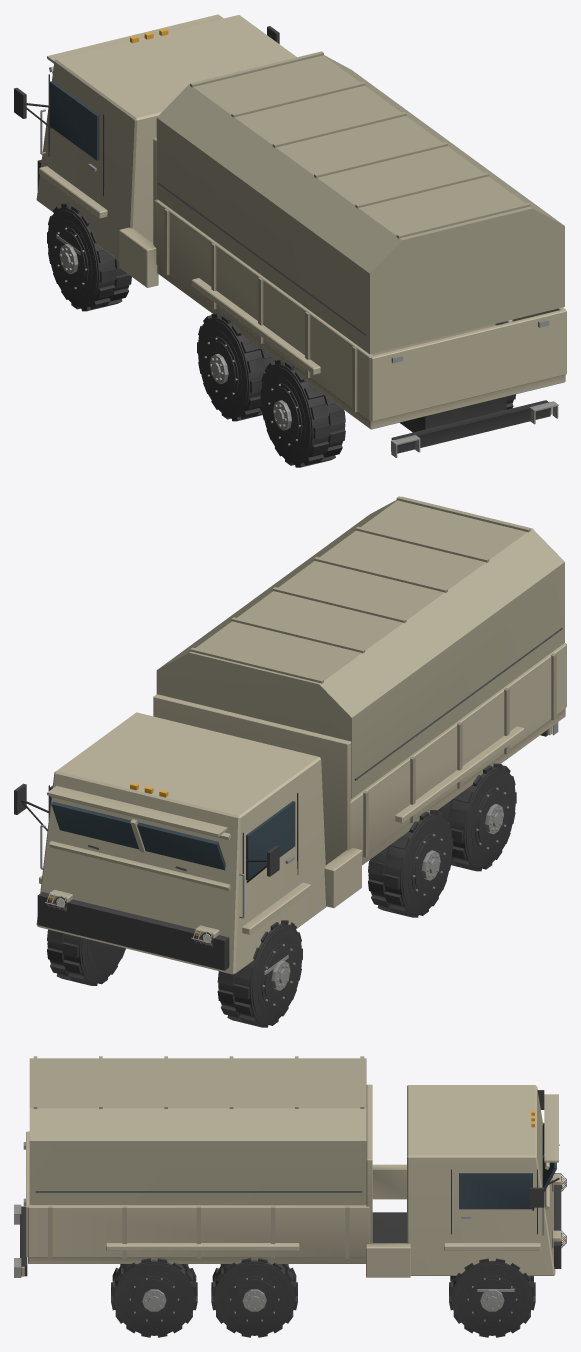
File: truck_usa.glb
The picture shows the model from 3 angles, top to bottom: view 1: azimuth 30°, elevation 25°; view 2: azimuth 150°, elevation 25°; view 3: azimuth 270°, elevation 25°; orthographic projection. The views are drawn at different scales.
Visible parts, largest first — view 1: body, door, wheel_4, wheel_0, wheel_2; view 2: body, wheel_2, wheel_0, wheel_4, wheel_1; view 3: body, wheel_5, wheel_3, wheel_1, door.
Boxes of the visible parts, x1=… form: body: x1=14, y1=14, x2=565, y2=457; door: x1=370, y1=309, x2=566, y2=421; wheel_4: x1=260, y1=359, x2=345, y2=467; wheel_0: x1=47, y1=203, x2=131, y2=311; wheel_2: x1=197, y1=313, x2=275, y2=421; body: x1=14, y1=496, x2=566, y2=974; wheel_2: x1=368, y1=810, x2=453, y2=917; wheel_0: x1=217, y1=920, x2=302, y2=1027; wheel_4: x1=438, y1=763, x2=516, y2=871; wheel_1: x1=47, y1=929, x2=125, y2=985; body: x1=14, y1=1056, x2=566, y2=1291; wheel_5: x1=111, y1=1258, x2=197, y2=1337; wheel_3: x1=211, y1=1258, x2=297, y2=1337; wheel_1: x1=449, y1=1258, x2=535, y2=1337; door: x1=23, y1=1131, x2=29, y2=1256.
Size of the model in its own units: 3.15 by 3.23 by 7.45.
